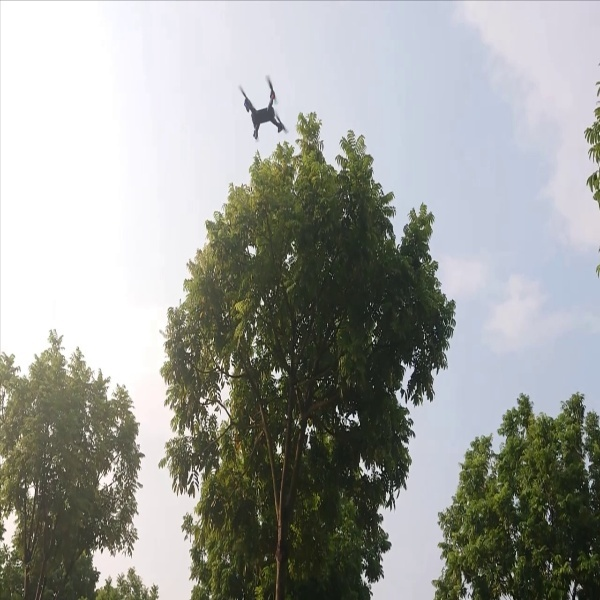drone: (229, 75, 288, 137)
